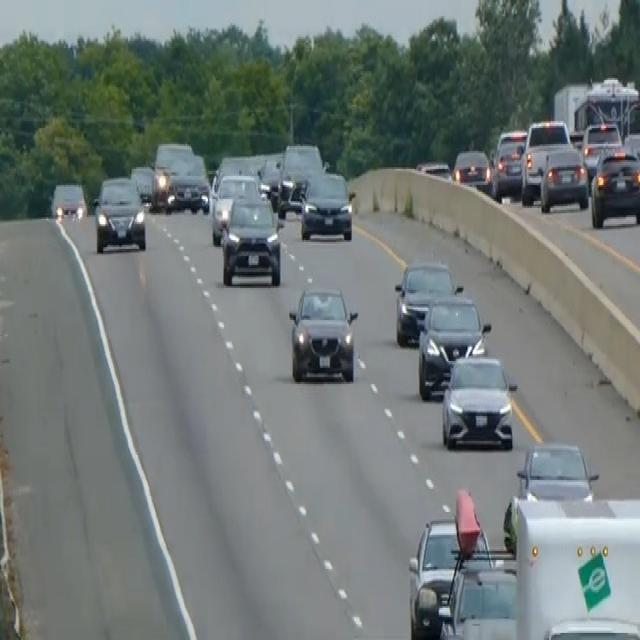car: (407, 516, 489, 638), (416, 292, 491, 400), (440, 352, 517, 450), (438, 553, 518, 638), (220, 192, 282, 286), (393, 258, 457, 346), (516, 439, 598, 501), (520, 116, 572, 204), (92, 175, 147, 252), (590, 146, 639, 228), (299, 169, 354, 242), (210, 169, 263, 243), (539, 146, 589, 213), (277, 140, 323, 212), (150, 139, 193, 208), (165, 151, 210, 213), (581, 119, 622, 181), (491, 128, 527, 197), (452, 146, 492, 194), (50, 180, 87, 222), (277, 176, 308, 219), (256, 153, 282, 203), (130, 162, 154, 202), (415, 158, 452, 182)
jeep: (286, 281, 359, 386)
truck: (552, 74, 639, 154)
